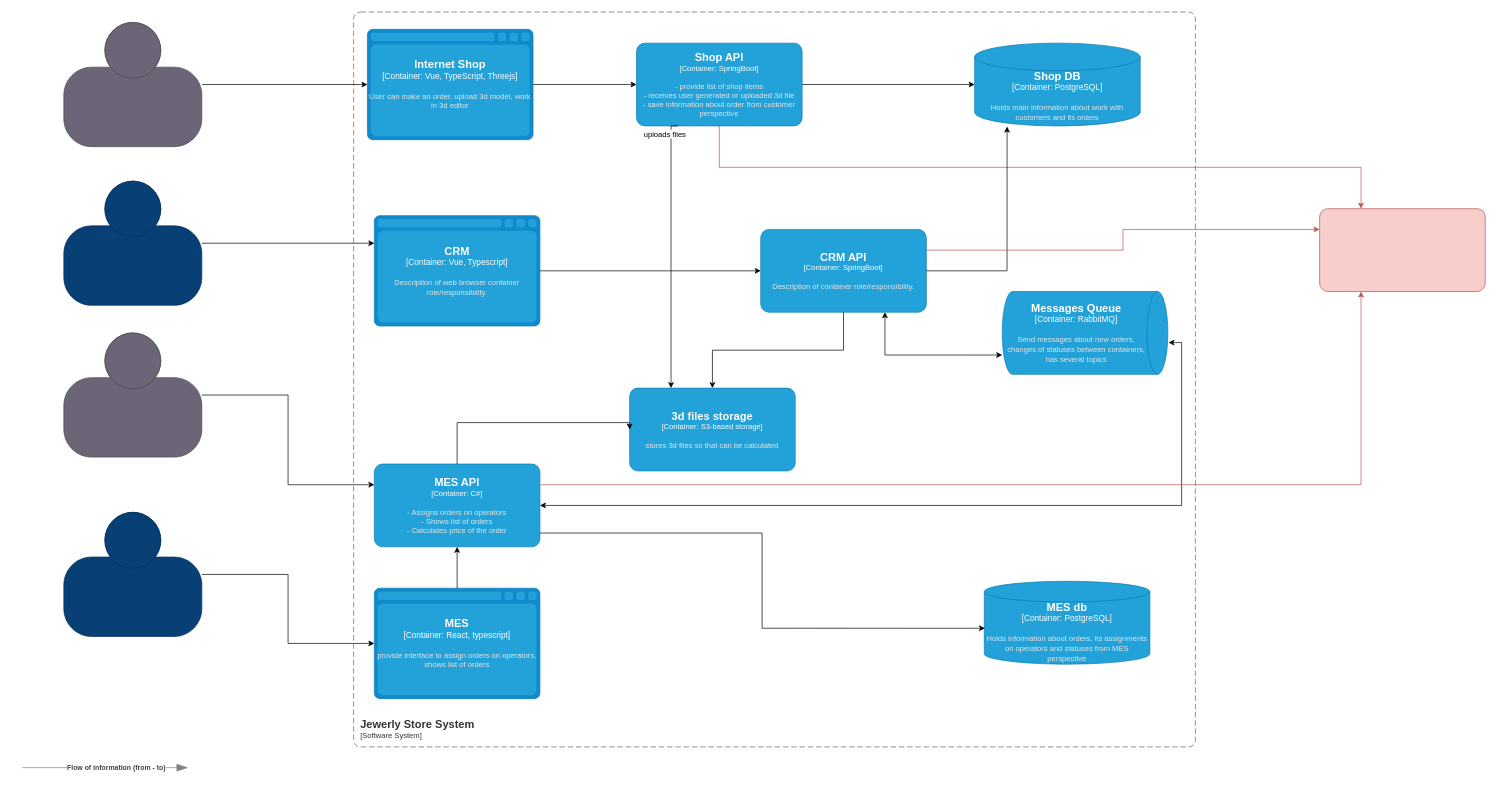
Image size: 1497x791. Some labels were removed from this diagram. The shapes that lost their labels are listed below. From the top down, each one's centre as x and y in pixels, then its label:
point (132, 84): Customer [Person] Description of external person.
point (132, 242): Seller [Person] Operates with order, confirms manufacturing for the user
point (1402, 250): Jaeger [Container: ] Tracing visualisation
point (132, 394): API user [Person] Description of external person.
point (132, 574): Operator [Person] Takes order in work, manufactures jewerly
